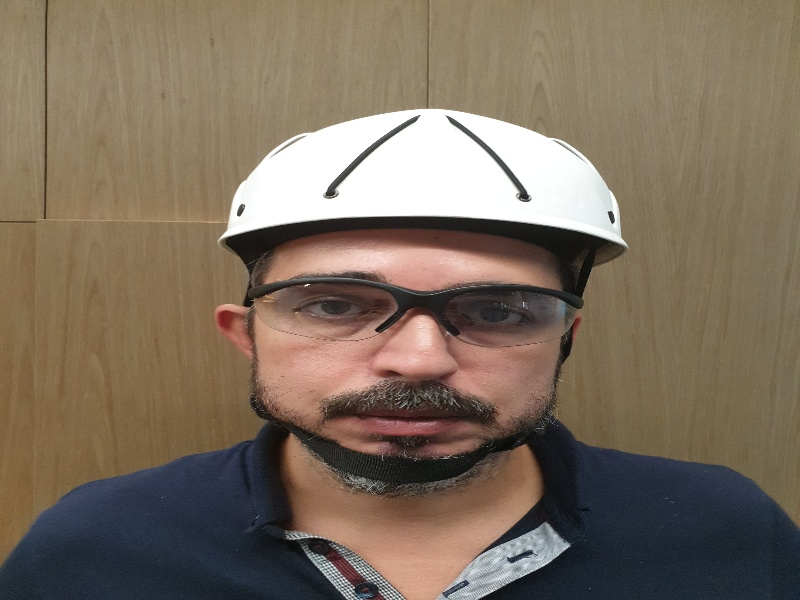Baret: (217, 106, 627, 252)
Gozluk: (238, 278, 577, 353)
